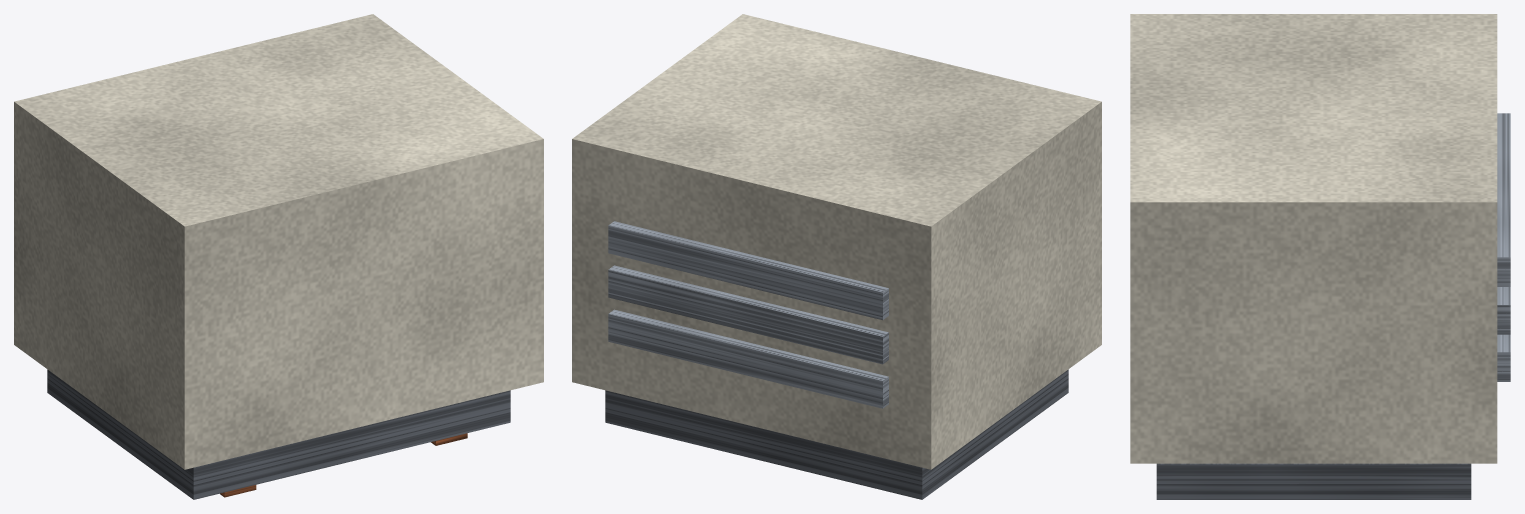
Rendered from ac_unit.fbx.
3 views of the same model, side by side, from view 1: azimuth 30°, elevation 25°; view 2: azimuth 150°, elevation 25°; view 3: azimuth 270°, elevation 25° (orthographic). The views are drawn at different scales.
Visible parts, largest first — view 1: ac_unit; view 2: ac_unit; view 3: ac_unit.
Boxes of the visible parts, x1,y1,x2,y2 form: ac_unit: (14,14,543,499); ac_unit: (572,14,1101,499); ac_unit: (1130,14,1510,499).
Bounding box in the file's own units: 68 × 54 × 58.
